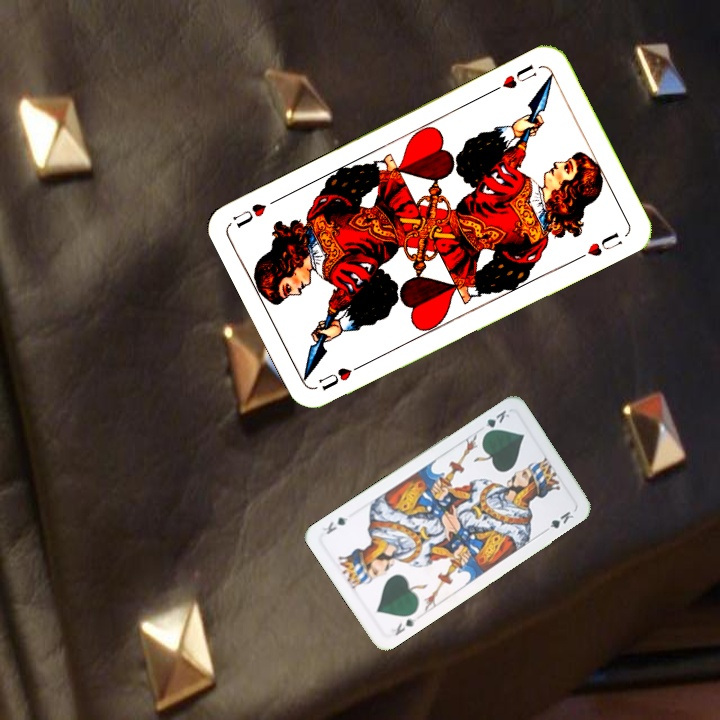GK: (479, 406, 512, 438), (391, 615, 419, 639)
HU: (314, 358, 368, 393), (488, 60, 540, 95)
